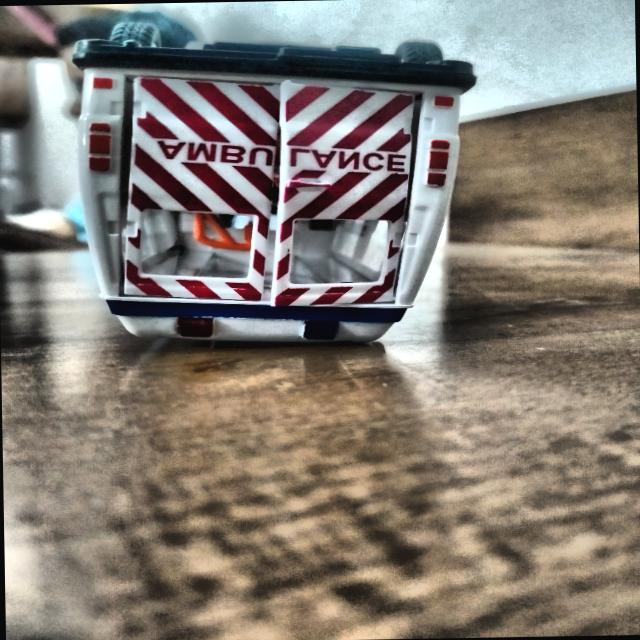Ambulance: (79, 10, 472, 349)
